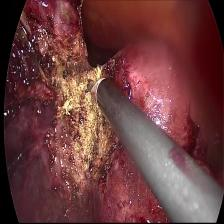Hook: (84, 68, 110, 106)
